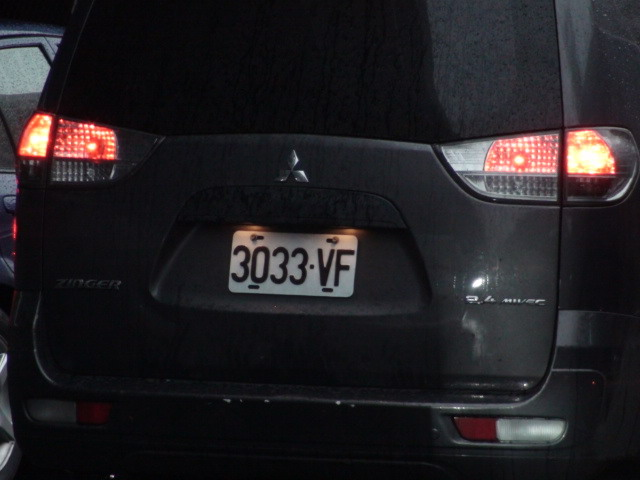plate: (228, 226, 360, 305)
